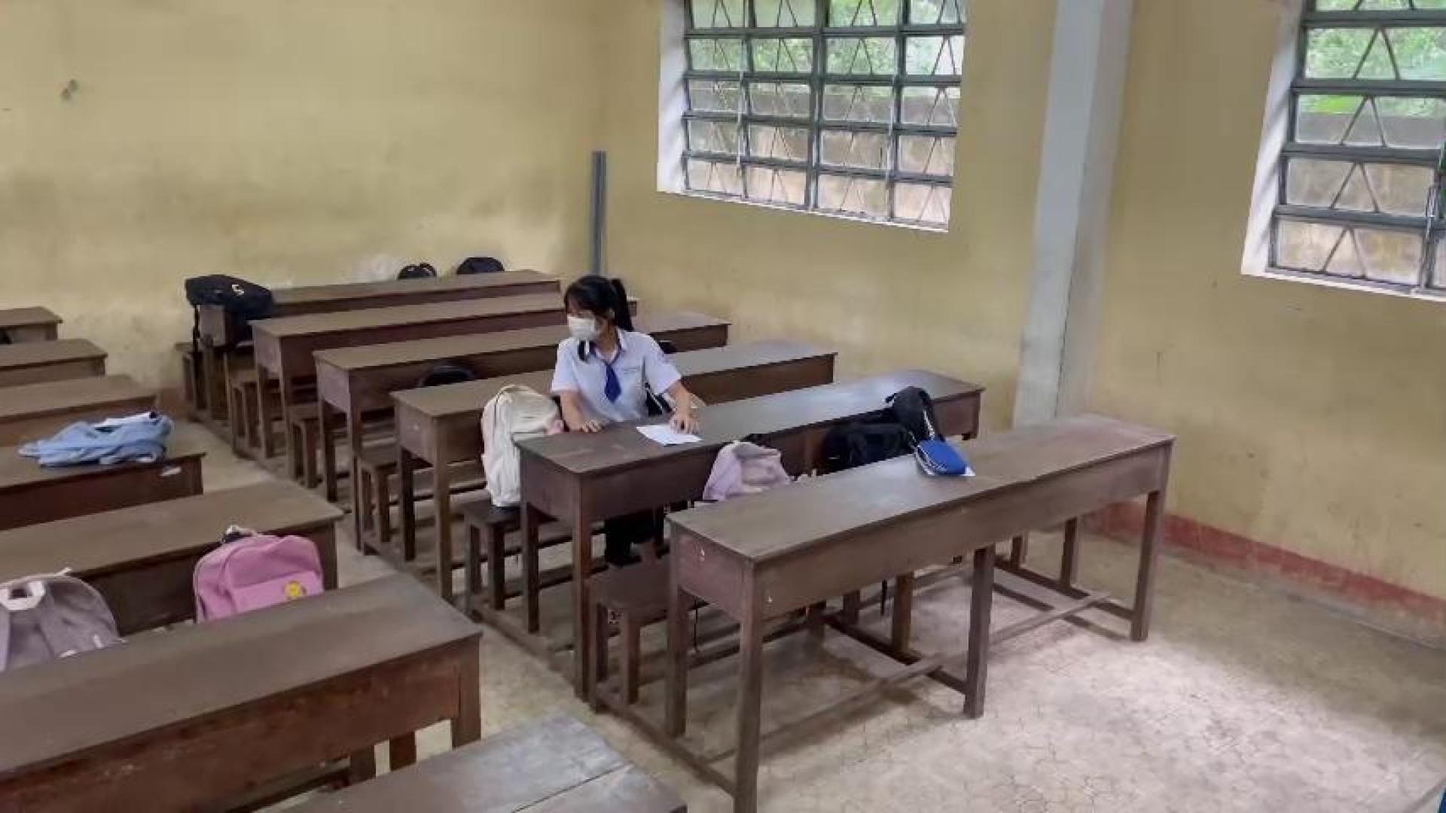Look Around: (549, 268, 635, 349)
